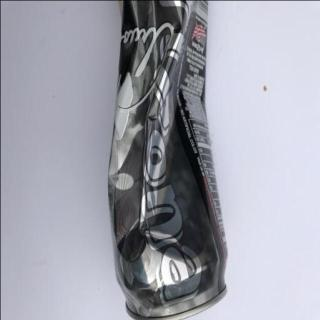Anorganik: (106, 0, 230, 316)
